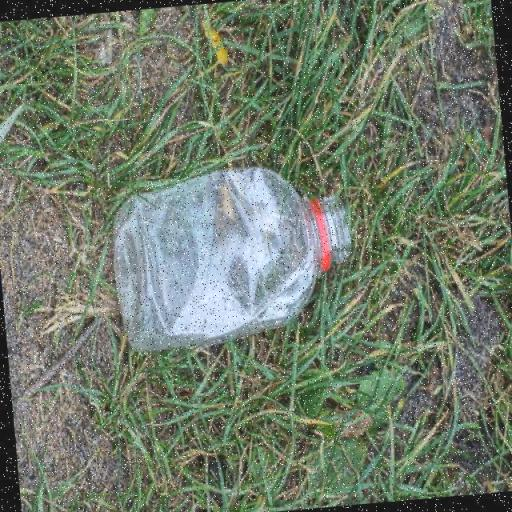bottle: (114, 167, 350, 350)
